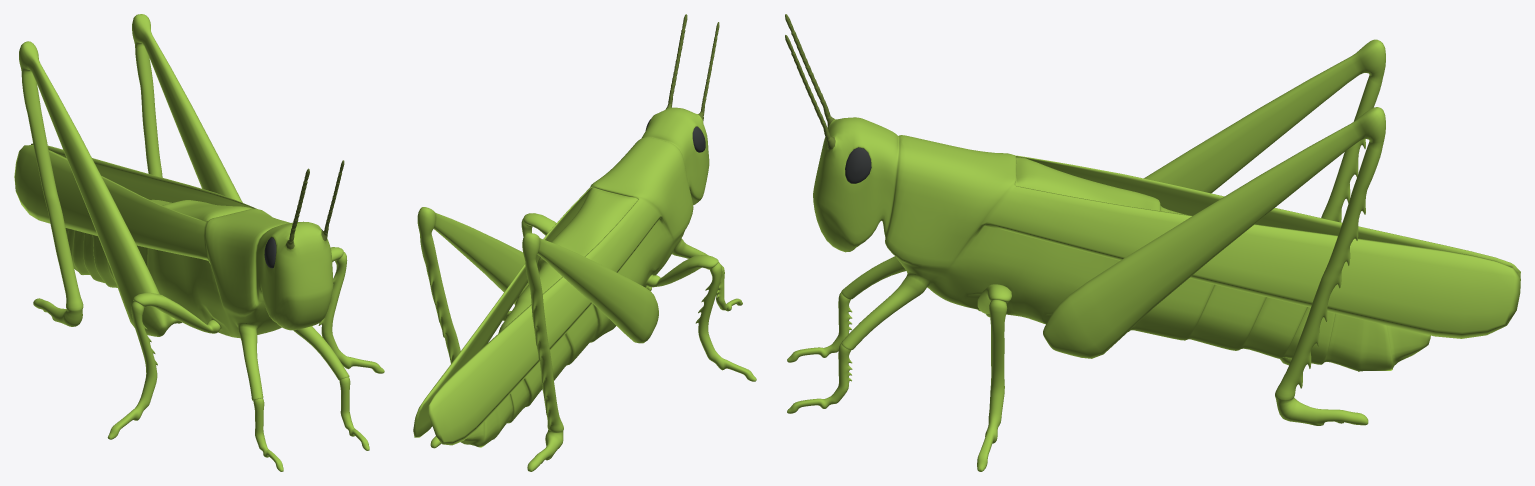
File: Grasshopper highpoly.fbx
The picture shows the model from 3 angles, left to right: view 1: azimuth 30°, elevation 25°; view 2: azimuth 150°, elevation 25°; view 3: azimuth 270°, elevation 25°; orthographic projection. The views are drawn at different scales.
Parts seen in each view (by area): view 1: criquet; view 2: criquet; view 3: criquet.
Part boxes in pixels (x1=…): criquet: x1=14, y1=14, x2=384, y2=471; criquet: x1=413, y1=14, x2=756, y2=471; criquet: x1=785, y1=14, x2=1520, y2=471.
Size of the model in its own units: 459 by 482 by 869.
1 material, 1 textured.
